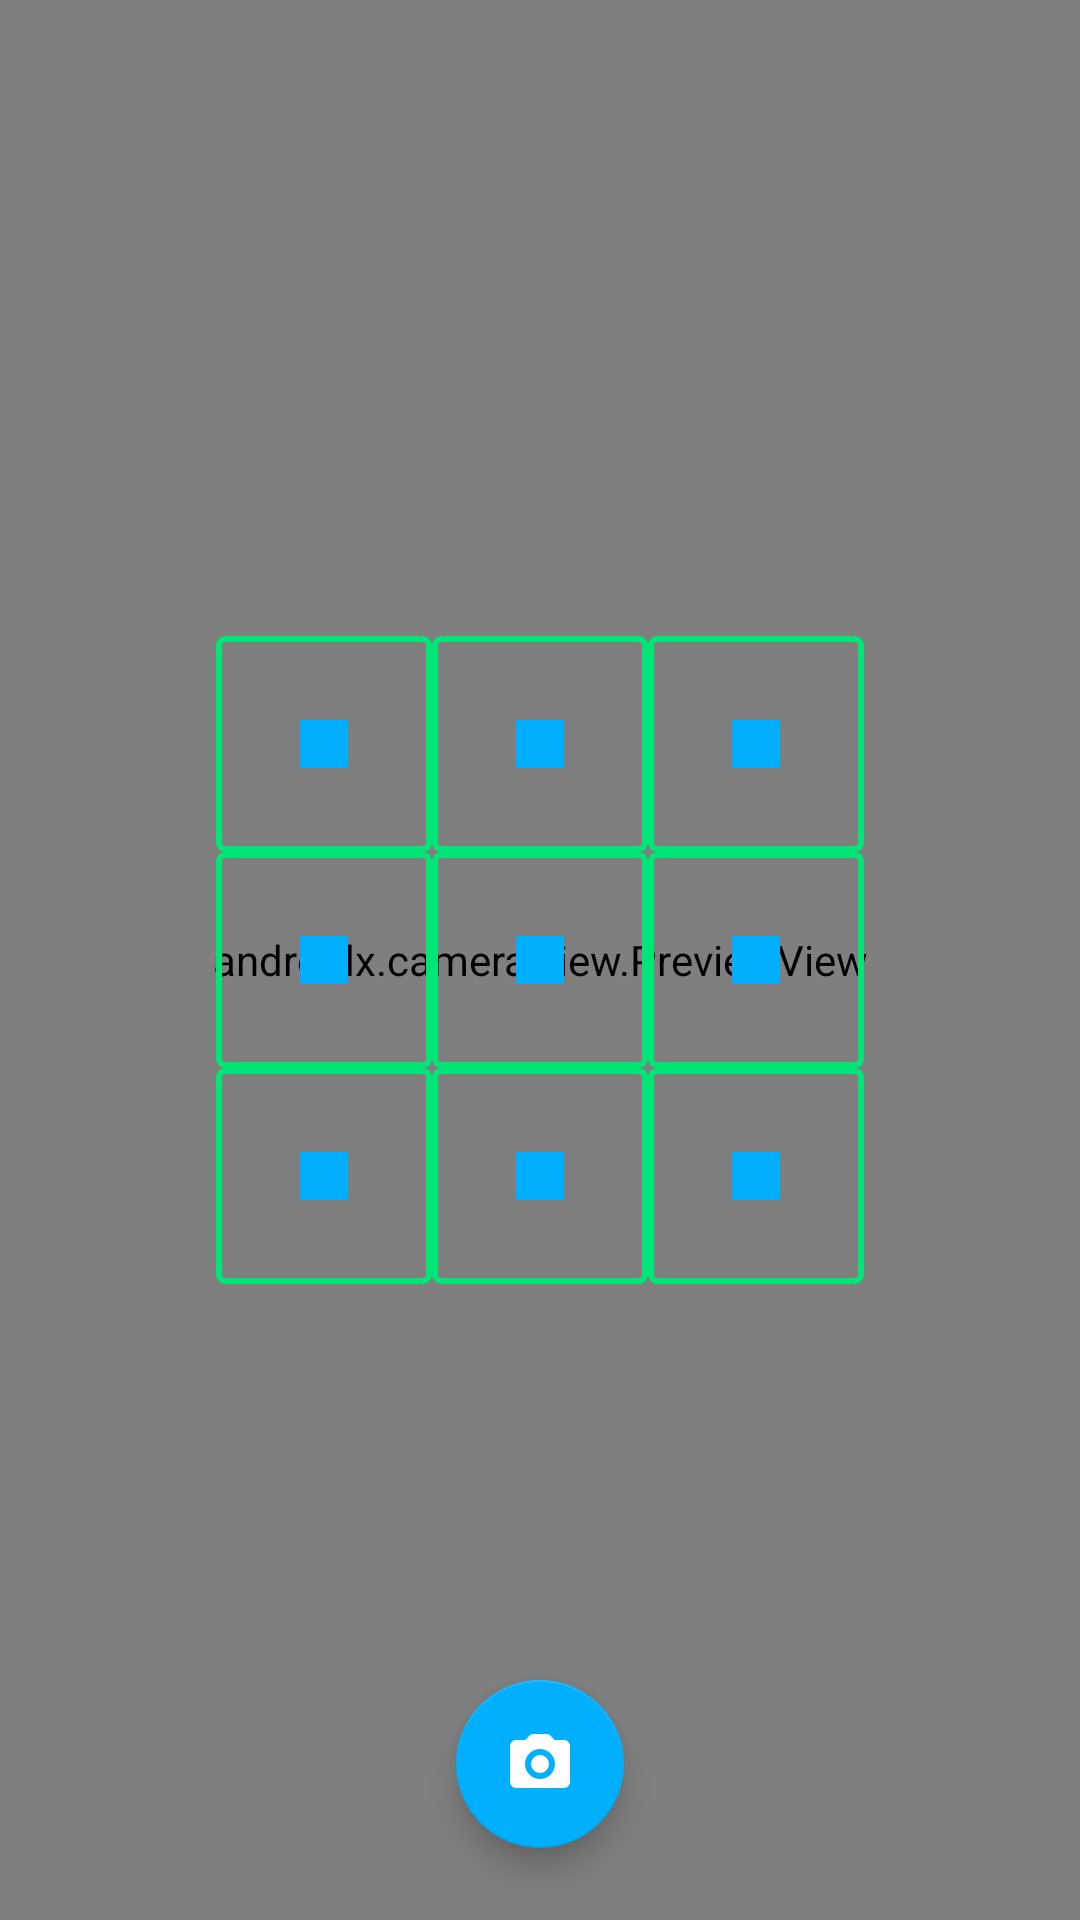

Icon click points for this 1080px x 1920px phone screenshot, format (x=x, y=y):
Capturar: (x=540, y=1764)
